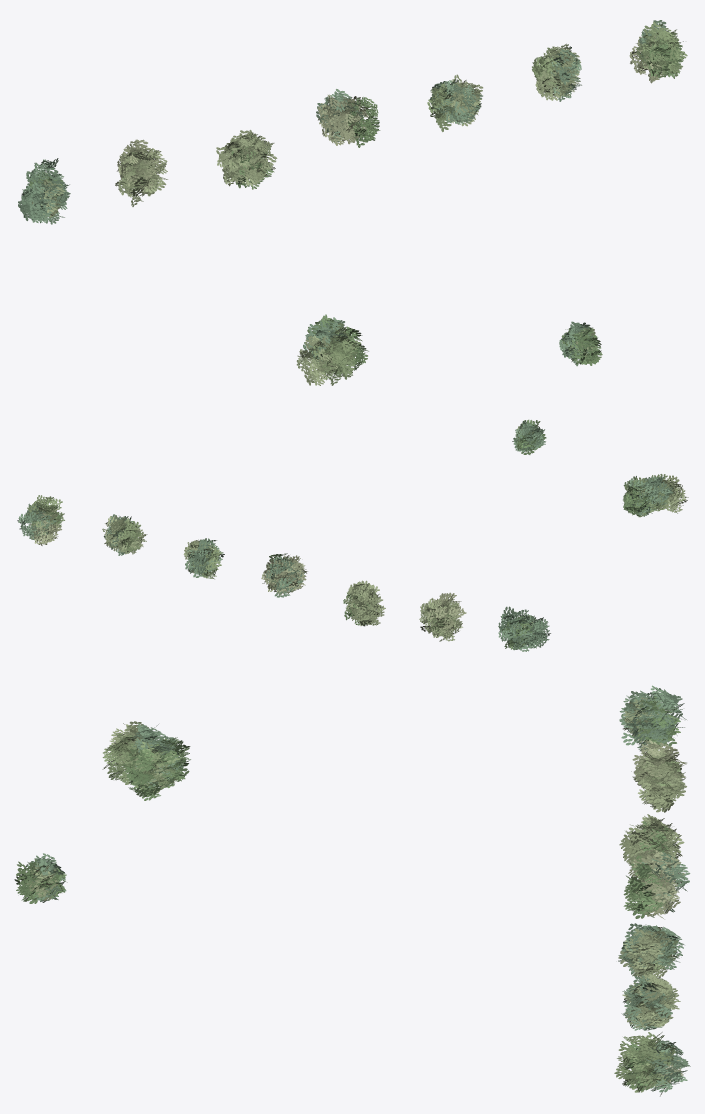
The model's file is campus-tree--3_-4-middle.glb.
3 views of the same model, one above another, from view 1: azimuth 30°, elevation 25°; view 2: azimuth 150°, elevation 25°; view 3: azimuth 270°, elevation 25° (orthographic). The views are drawn at different scales.
Visible parts, largest first — view 1: Campus leaf canopy; view 2: Campus leaf canopy; view 3: Campus leaf canopy.
Boxes of the visible parts, left/top/right/bottom form: Campus leaf canopy: left=18, top=20, right=687, bottom=385; Campus leaf canopy: left=17, top=419, right=688, bottom=651; Campus leaf canopy: left=14, top=685, right=690, bottom=1096.
Size of the model in its own units: 73.04 by 8.04 by 56.89.
Materials: 1 (1 with a texture image).
